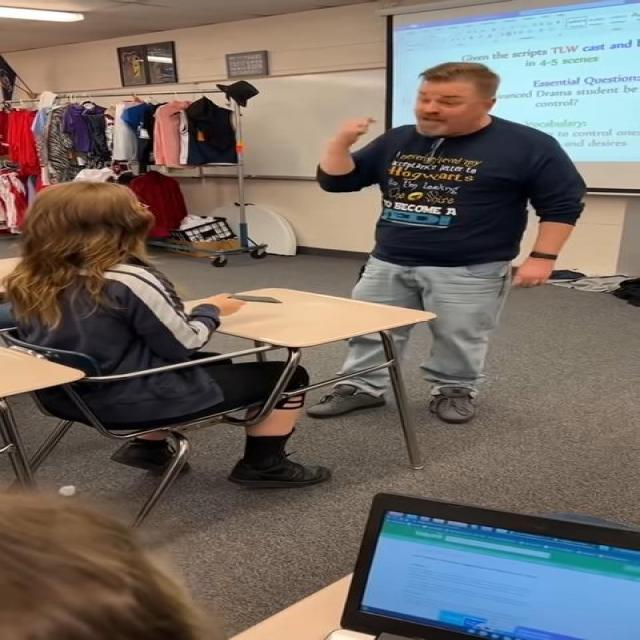NO-Mask: (411, 66, 496, 136)
